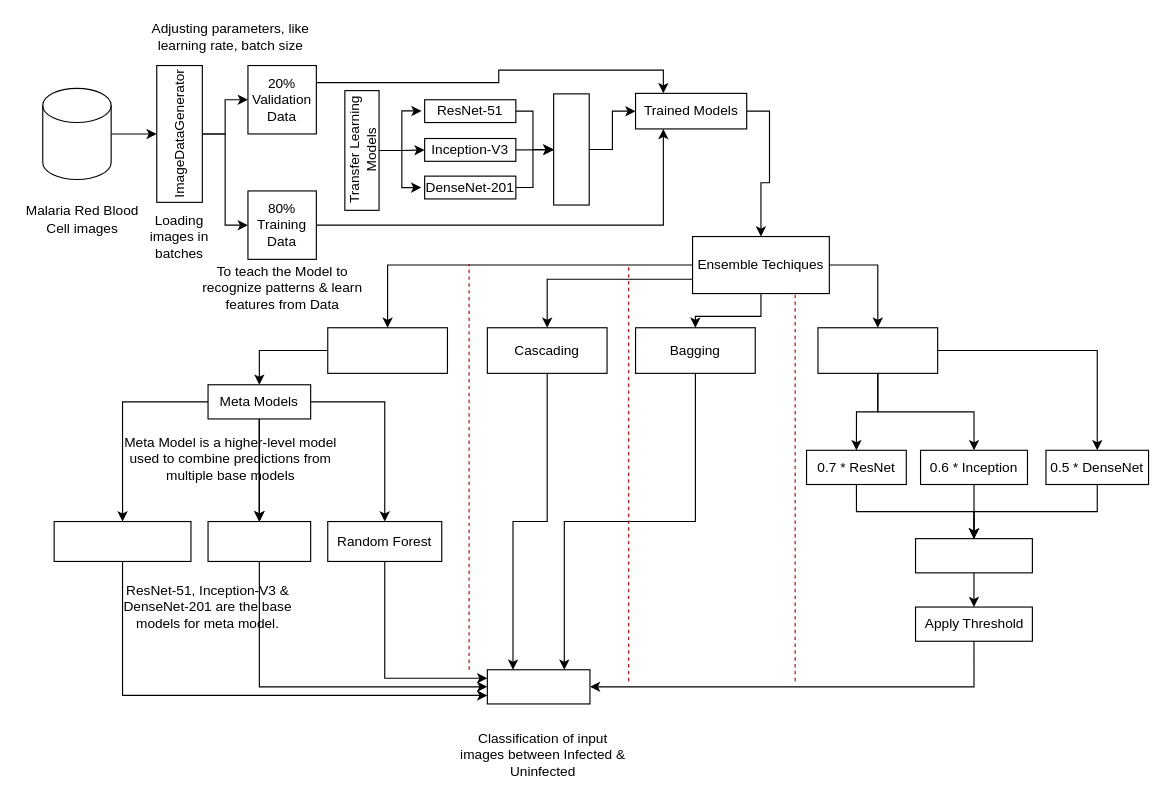
This 1169x799 diagram has some shape labels left out. The centre of each missing label's shape, as x and y in pixels:
"Compile Models" belongs at point (571, 149).
"Dataset" belongs at point (76, 133).
"Logistic Regression" belongs at point (122, 540).
"Normalize" belongs at point (973, 555).
"Predections" belongs at point (538, 686).
"Stacking" belongs at point (387, 350).
"SVM" belongs at point (259, 540).
"Weighted Avg." belongs at point (877, 350).
